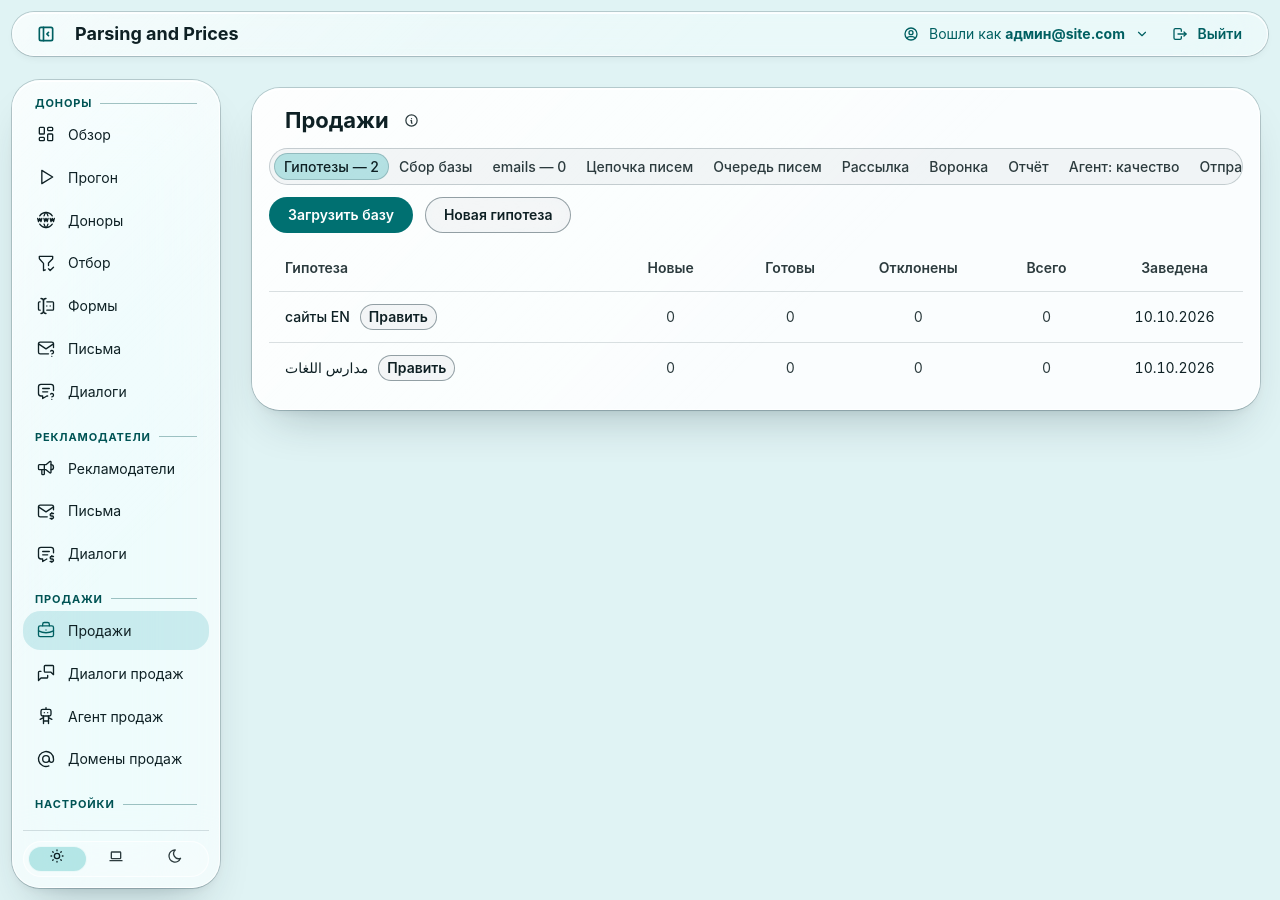
удаление гипотезы: только пустую › гонка: сервер отказал 409 — слова над полями, кнопка закрыта с новыми словами
Click the button with aria-label "Править гипотезу «сайты EN»" at (398, 317), box [360,304,437,330]
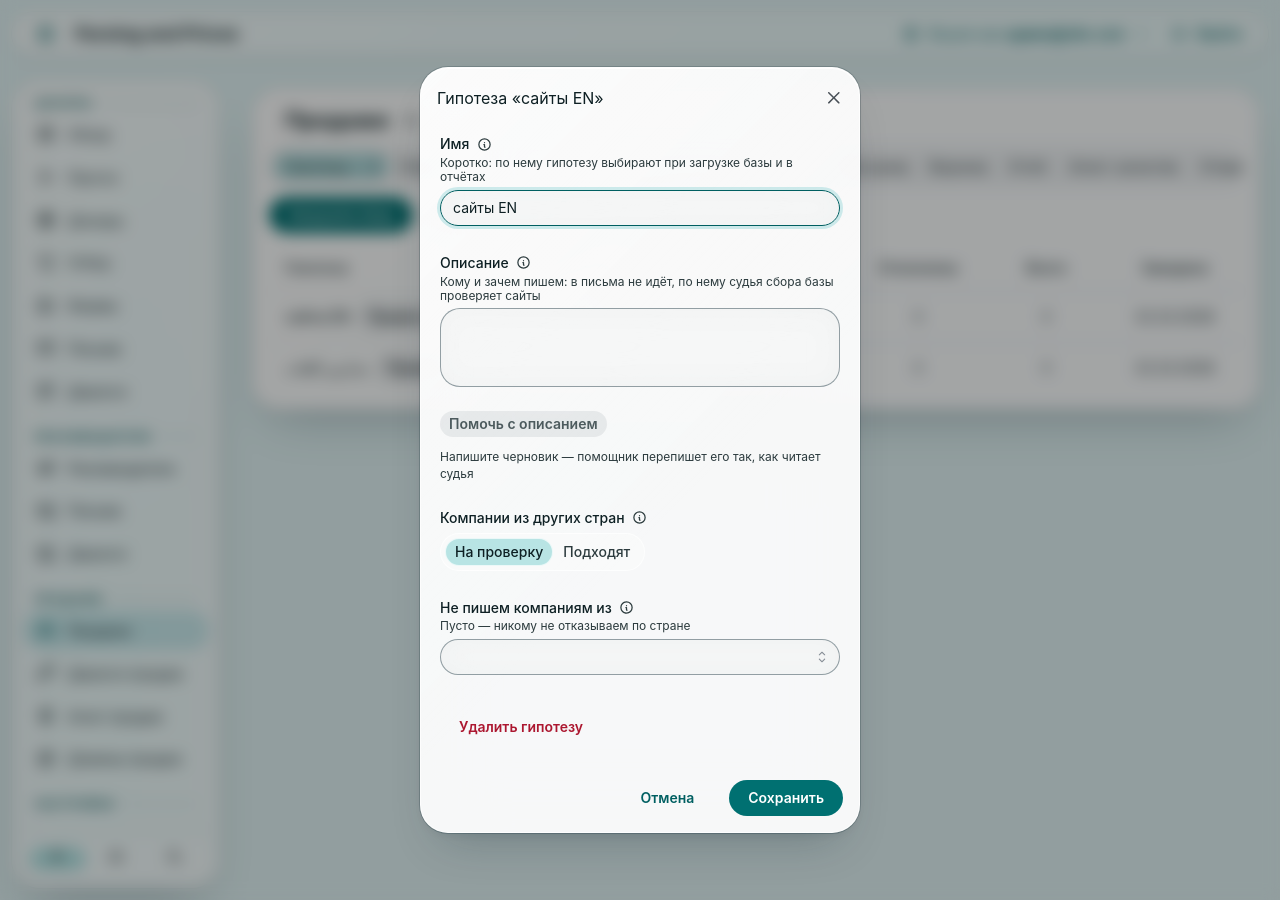
Click the button "Удалить гипотезу" at (521, 727), box [440,709,602,745]
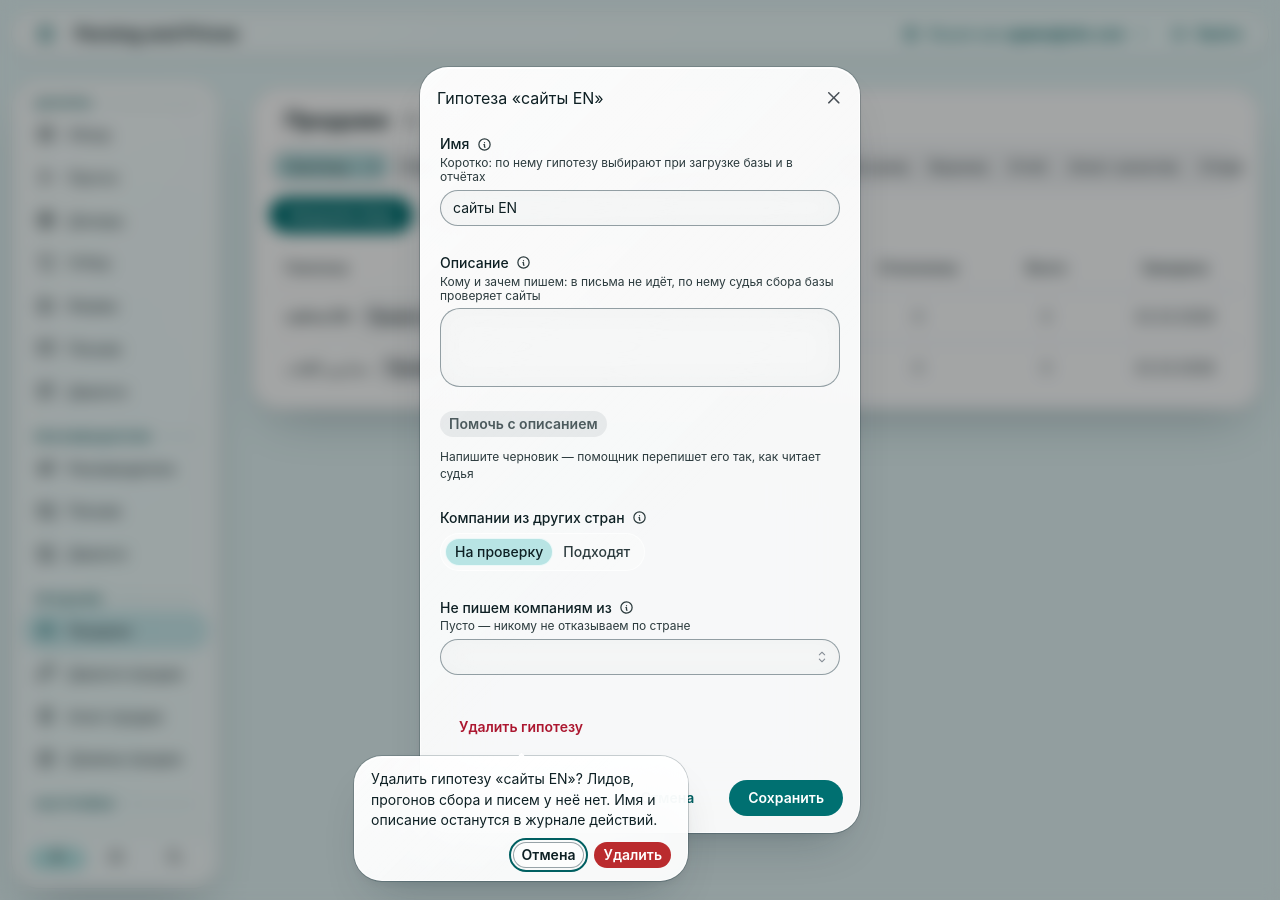
Click the button "Удалить" at (633, 855), box [594,842,671,868]
(page scrolled)
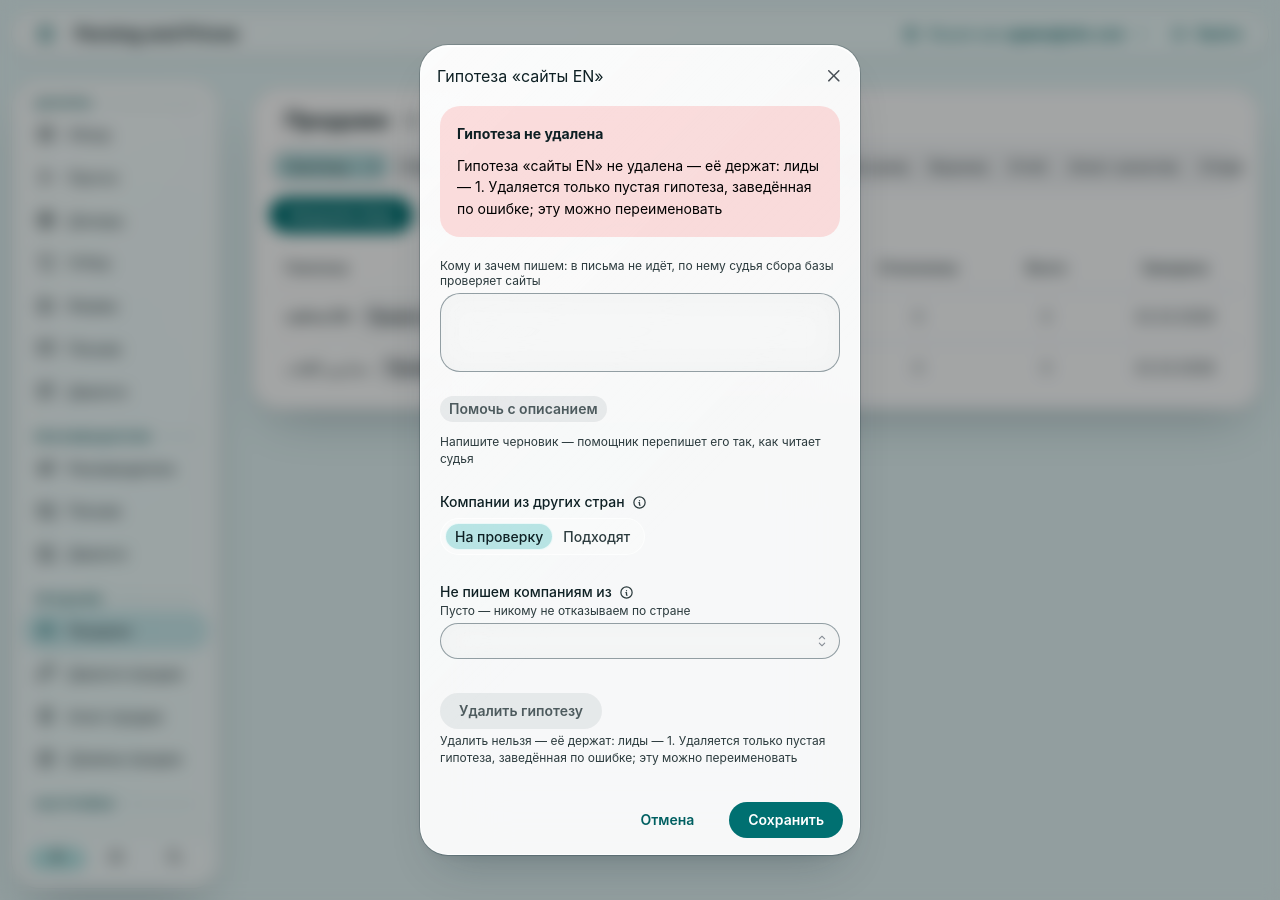
Result: the button "Удалить гипотезу" is disabled at [440,693,602,729]
